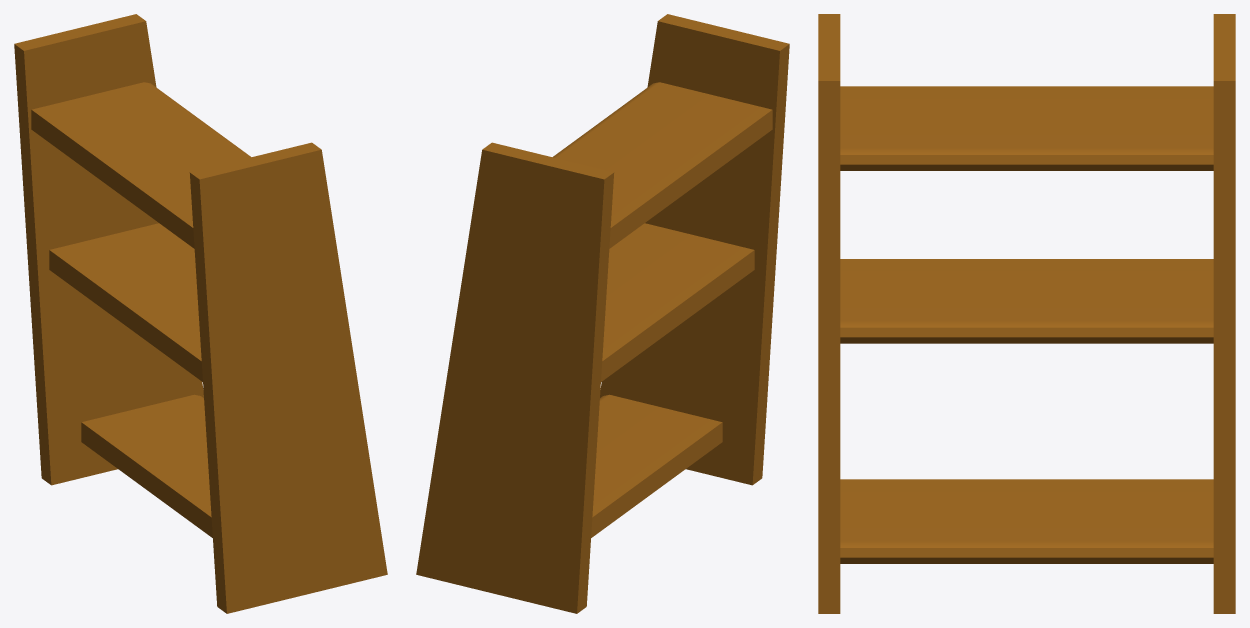
The model's file is Forniture_2.fbx.
3 views of the same model, side by side, from view 1: azimuth 30°, elevation 25°; view 2: azimuth 150°, elevation 25°; view 3: azimuth 270°, elevation 25° (orthographic). The views are drawn at different scales.
Parts seen in each view (by area): view 1: pCube16; view 2: pCube16; view 3: pCube16.
Part boxes in pixels (box(x1,y1,x2,y2)): pCube16: box(14, 14, 387, 613); pCube16: box(416, 14, 789, 613); pCube16: box(818, 14, 1235, 613).
Size of the model in its own units: 0.6195 by 1.39 by 1.06.
